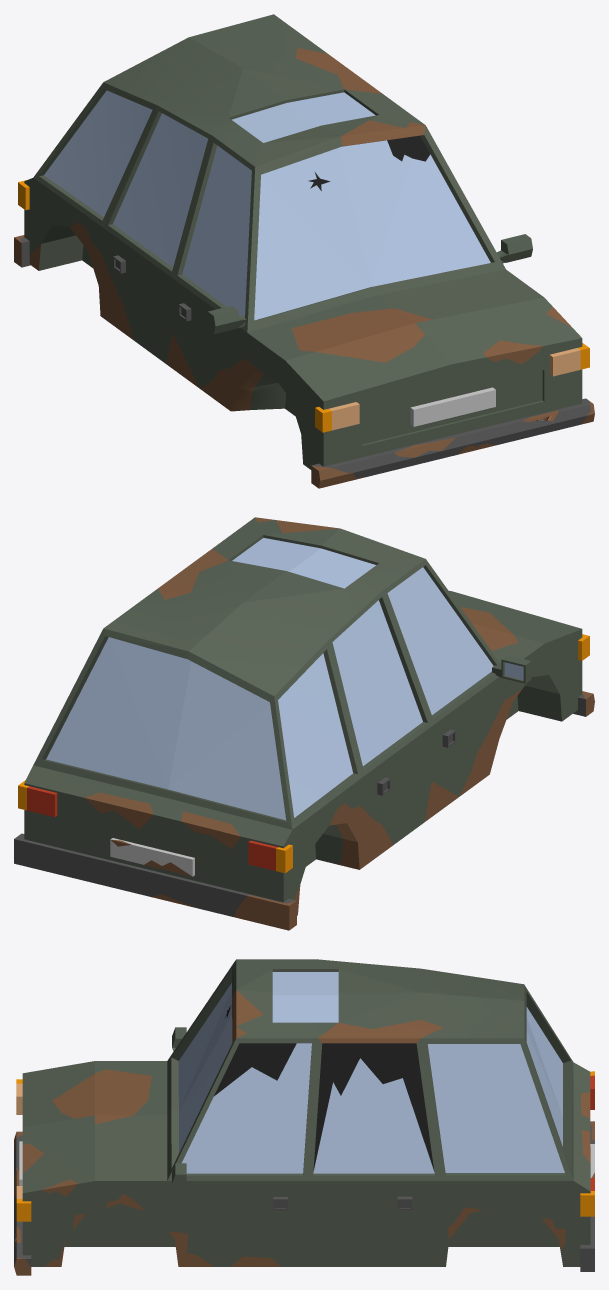
File: OldCar_06.glb
The picture shows the model from 3 angles, top to bottom: view 1: azimuth 30°, elevation 25°; view 2: azimuth 150°, elevation 25°; view 3: azimuth 270°, elevation 25°; orthographic projection. The views are drawn at different scales.
Parts seen in each view (by area): view 1: OldCar_06; view 2: OldCar_06; view 3: OldCar_06.
Boxes of the visible parts, x1,y1,x2,y2 form: OldCar_06: (14, 14, 594, 488); OldCar_06: (14, 517, 594, 930); OldCar_06: (14, 959, 594, 1275).
Bounding box in the file's own units: 1.98 × 1.39 × 3.3.
Materials: 1 (1 with a texture image).
